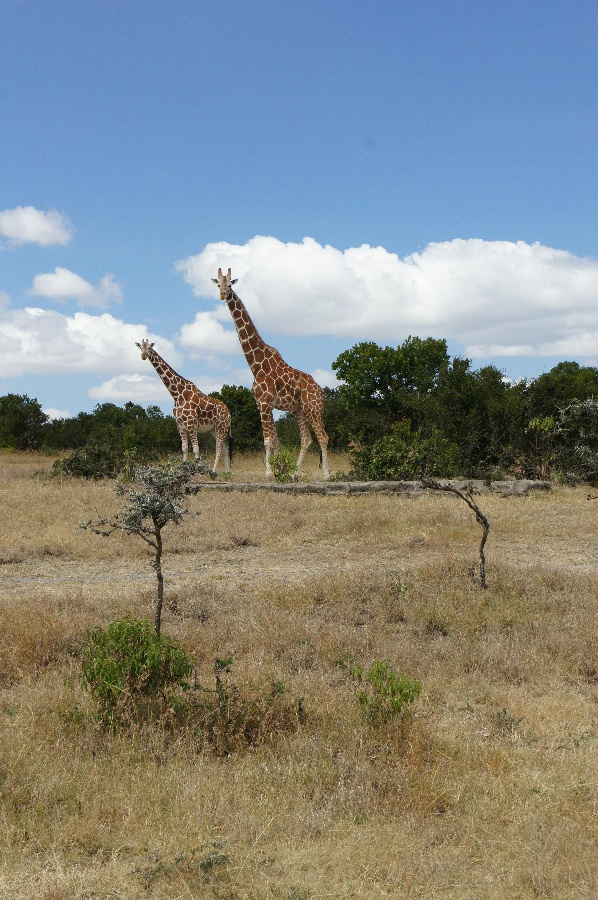giraffe: (206, 259, 340, 487), (130, 330, 238, 481)
